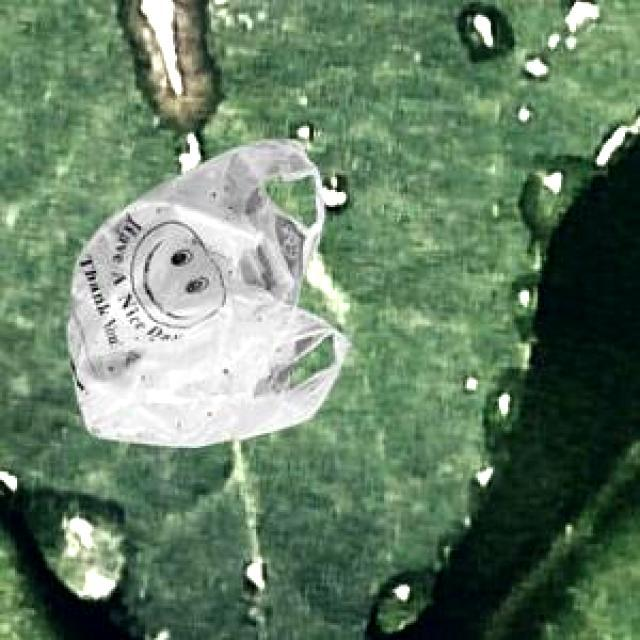Plastic_Bag: (65, 135, 347, 445)
